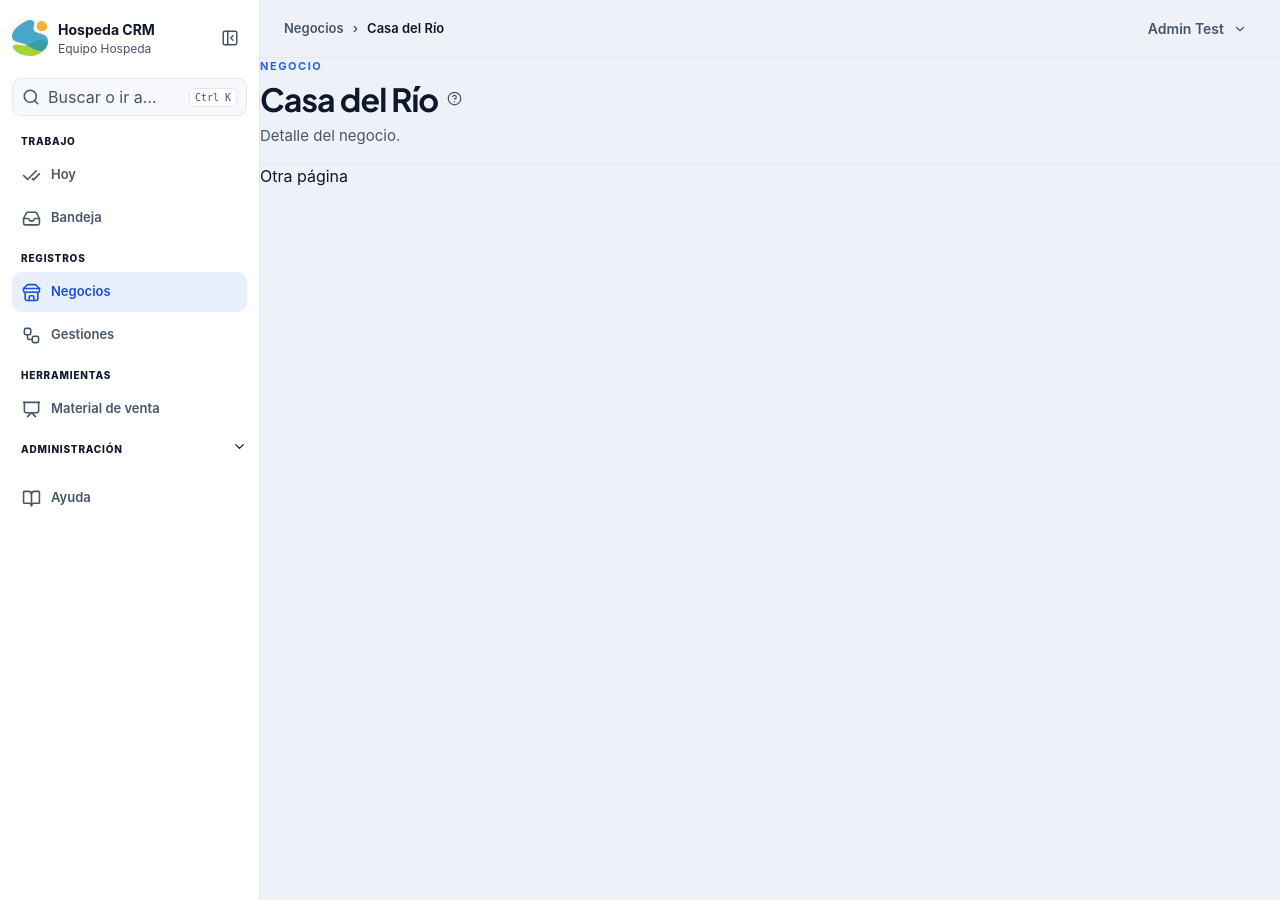
Test: AppLayout breadcrumbs › keeps the user menu in the top bar with the WhatsApp script destination inside it
This screenshot has width=1280, height=900.
Click the button "Admin Test" at (1197, 28), box top-left (1139, 10), bottom-right (1256, 48)
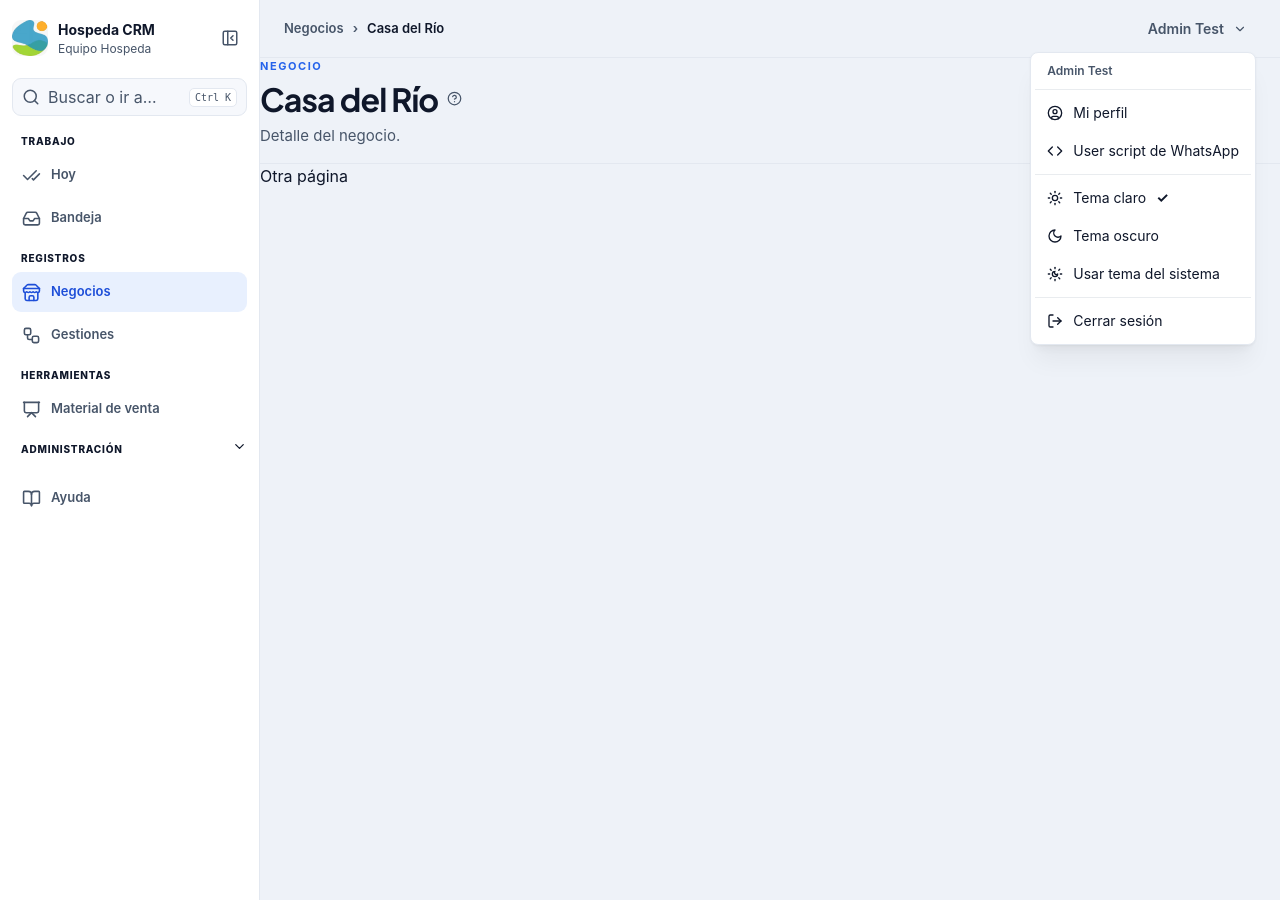
Result: the menu item "User script de WhatsApp" is shown at top-left (1047, 142), bottom-right (1239, 159)
